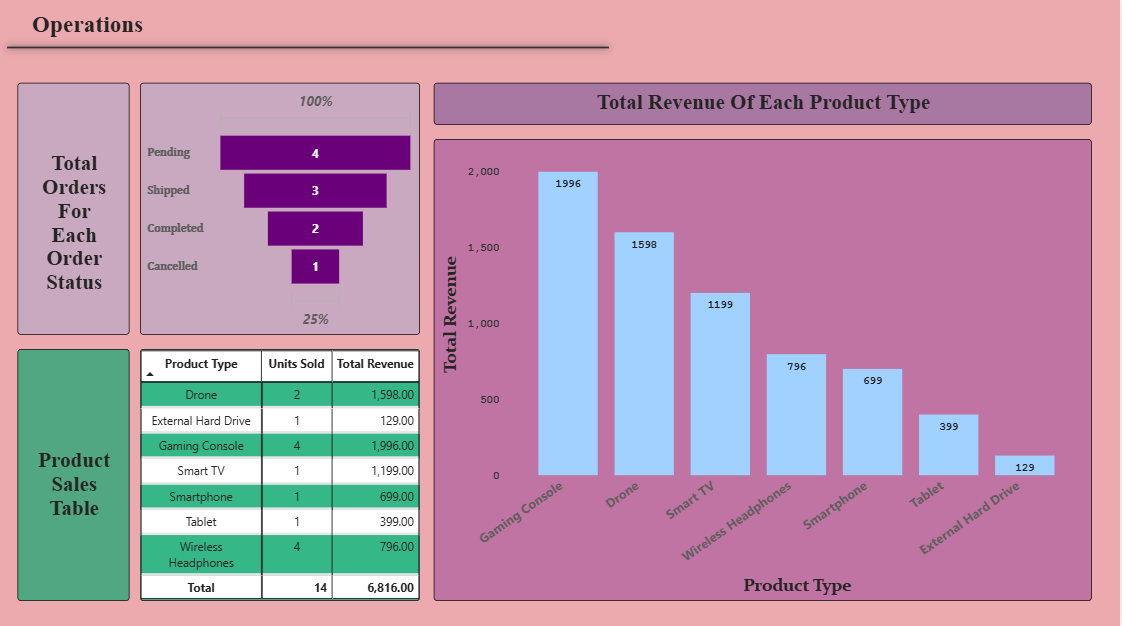

The page's visual inventory and layout, read from the dashboard file:
{"tool":"powerbi","page":{"name":"Operations","canvas":[1280,720],"ordinal":2},"visuals":[{"type":"funnel","fields":{"Category":["order_status_funnel.order_status"],"Y":["Sum(order_status_funnel.order_count)"]},"box":[160,96,320,288],"z":0},{"type":"clusteredColumnChart","fields":{"Category":["product_performance.item_name"],"Y":["Sum(product_performance.Total_revenue)"]},"box":[496,160,752,528],"z":1000},{"type":"pivotTable","fields":{"Rows":["product_performance.item_name"],"Values":["Sum(product_performance.Total_units_sold)","Sum(product_performance.Total_revenue)"]},"box":[160,400,320,288],"z":2000},{"type":"shape","box":[0,32,704,48],"z":3000},{"type":"textbox","box":[32,9,304,48],"z":4000},{"type":"textbox","box":[496,96,752,48],"z":5000},{"type":"textbox","box":[20,400,128,288],"z":6000},{"type":"textbox","box":[20,96,128,288],"z":7000}]}

Visuals, with their boxes in screenshot pixels (x1, y1, x2, y2), scaled from the page's 1280x720 canvas onto the 1122x626 screenshot:
funnel - order_status_funnel.order_status x Sum(order_status_funnel.order_count): left=140, top=83, right=421, bottom=334
clusteredColumnChart - product_performance.item_name x Sum(product_performance.Total_revenue): left=435, top=139, right=1094, bottom=598
pivotTable - product_performance.item_name x Sum(product_performance.Total_units_sold): left=140, top=348, right=421, bottom=598
shape: left=0, top=28, right=617, bottom=70
textbox: left=28, top=8, right=295, bottom=50
textbox: left=435, top=83, right=1094, bottom=125
textbox: left=18, top=348, right=130, bottom=598
textbox: left=18, top=83, right=130, bottom=334
